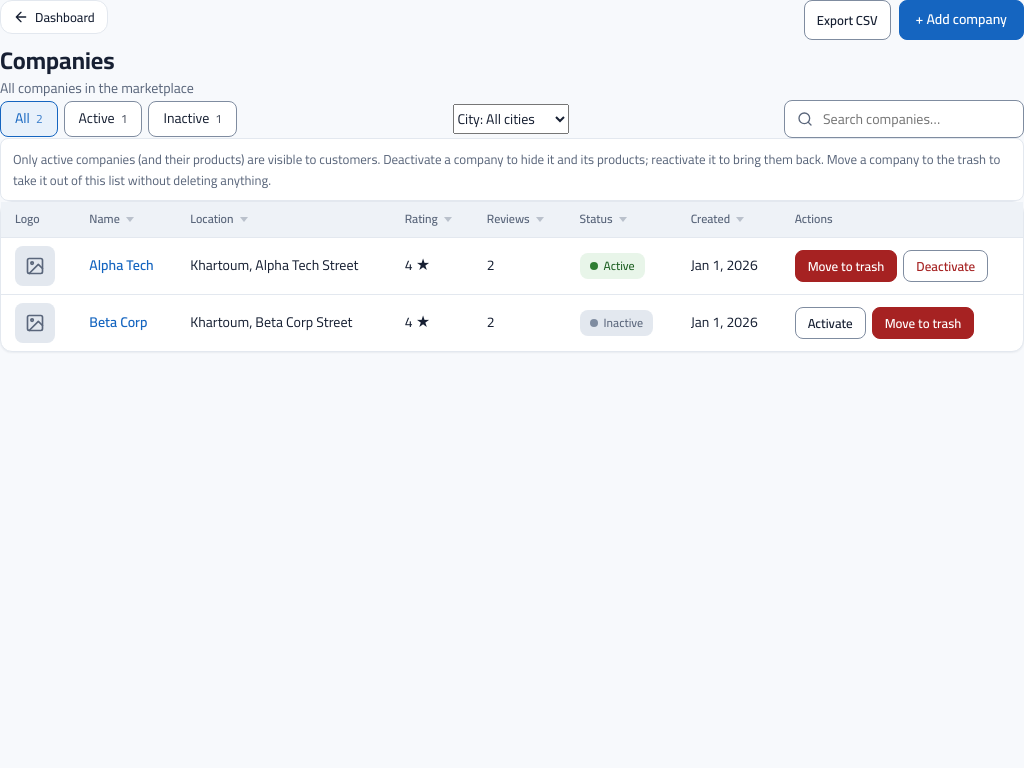
Test: Move to trash › asks first, and does not open the details
Click the button "Move to trash" in the row of "Khartoum, Alpha Tech Street" at (846, 266), box [795,250,897,282]
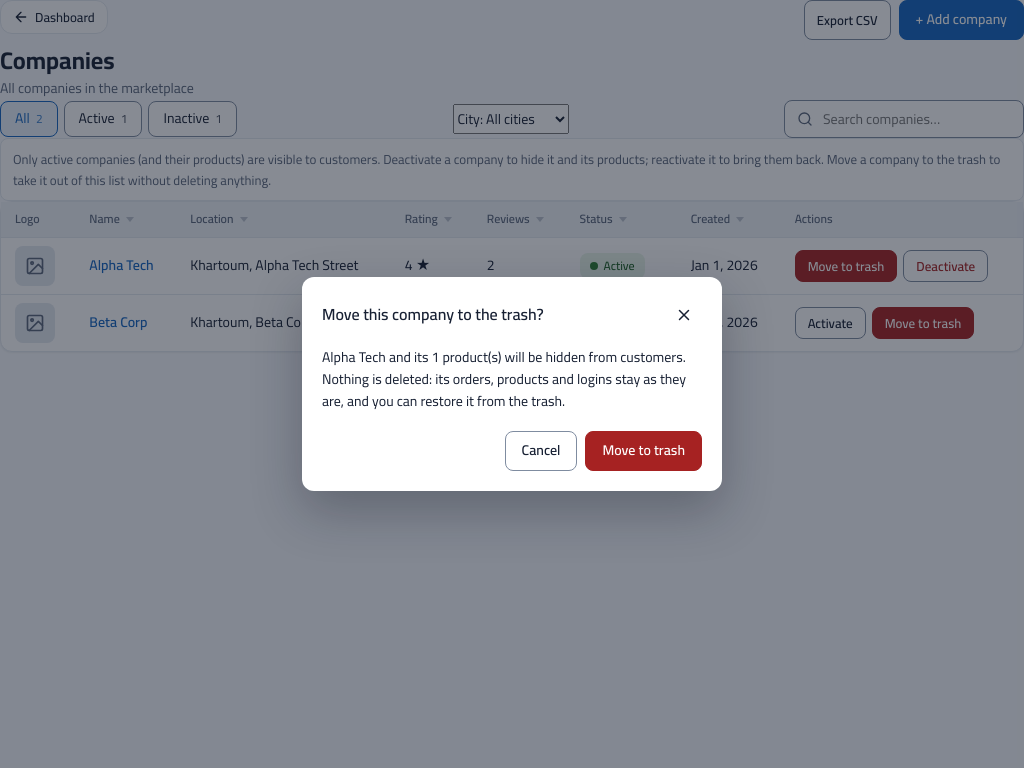
Now the dialog "Move this company to the trash?" is shown, box [302,277,722,491]
